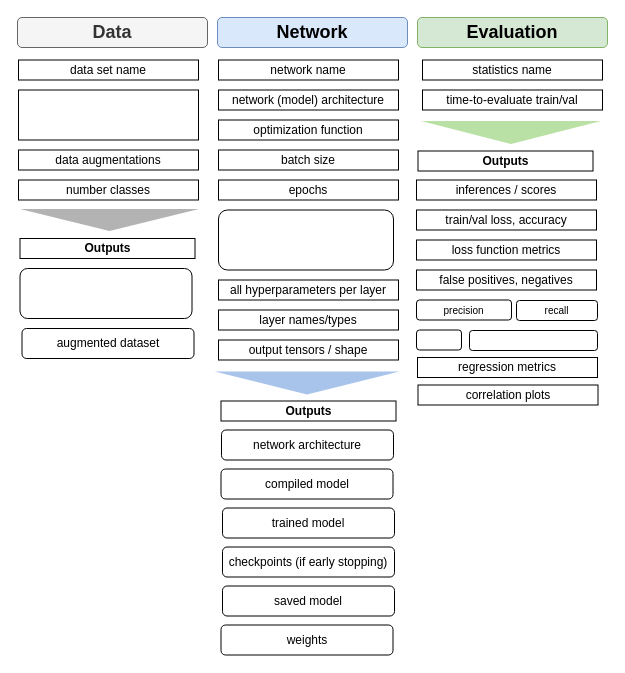
The diagram is 625 pixels wide and 673 high, and some of its shapes have lost their labels. Each missing label, with the box of its shape:
data train shape data val shape data test shape: (18, 89, 198, 140)
F1: (416, 329, 462, 350)
Network Layer Configurations: (218, 209, 394, 270)
ROC curves, AUC: (468, 330, 598, 350)
training set validation set test set: (19, 268, 192, 318)
